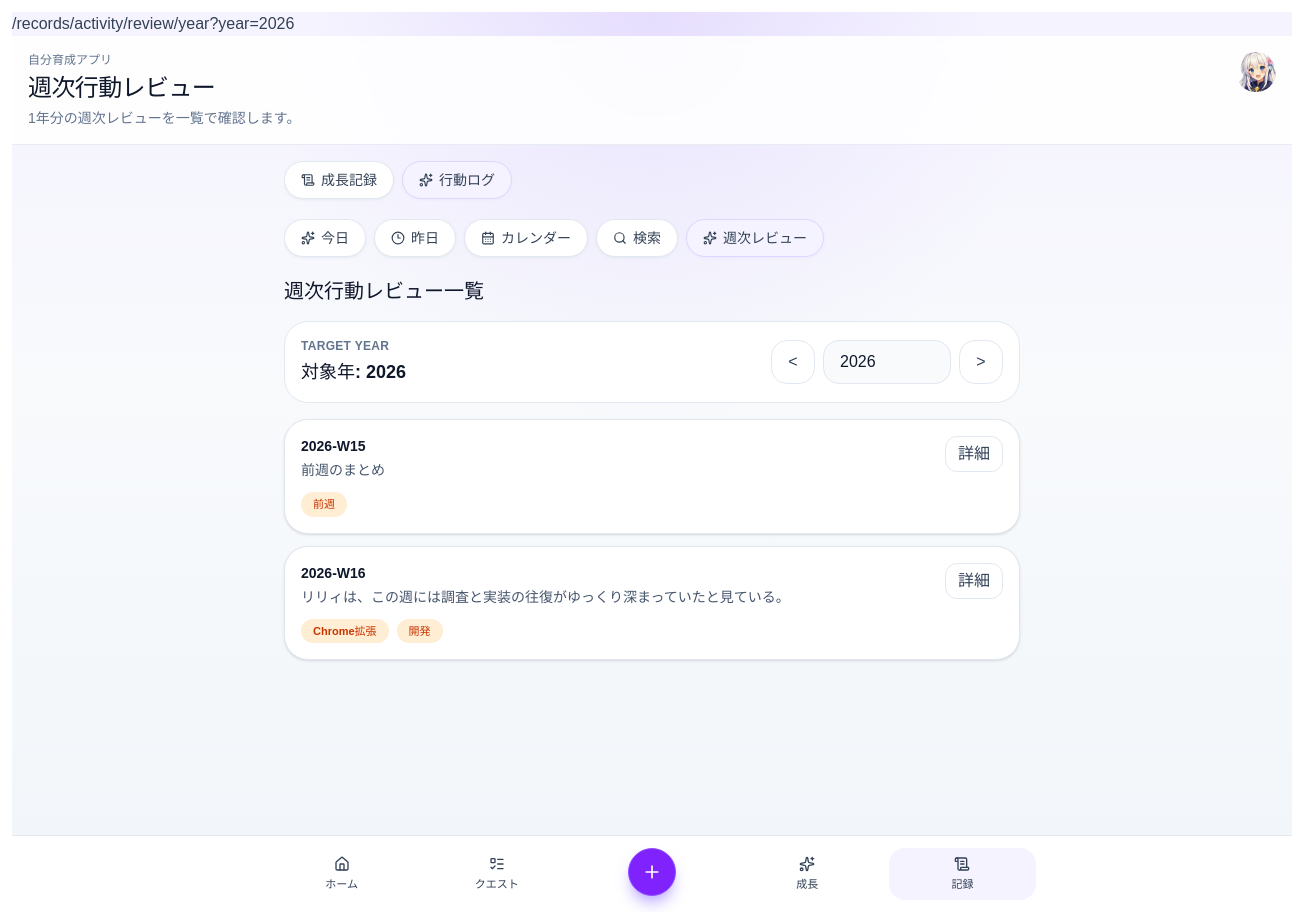
activity log routes › renders the requested review year and navigates to weekly detail
Check: the text "対象年: 2026" is shown, box [301, 358, 406, 386]
Click the button with aria-label "Open 2026-W15" at (974, 454), box [945, 436, 1003, 472]
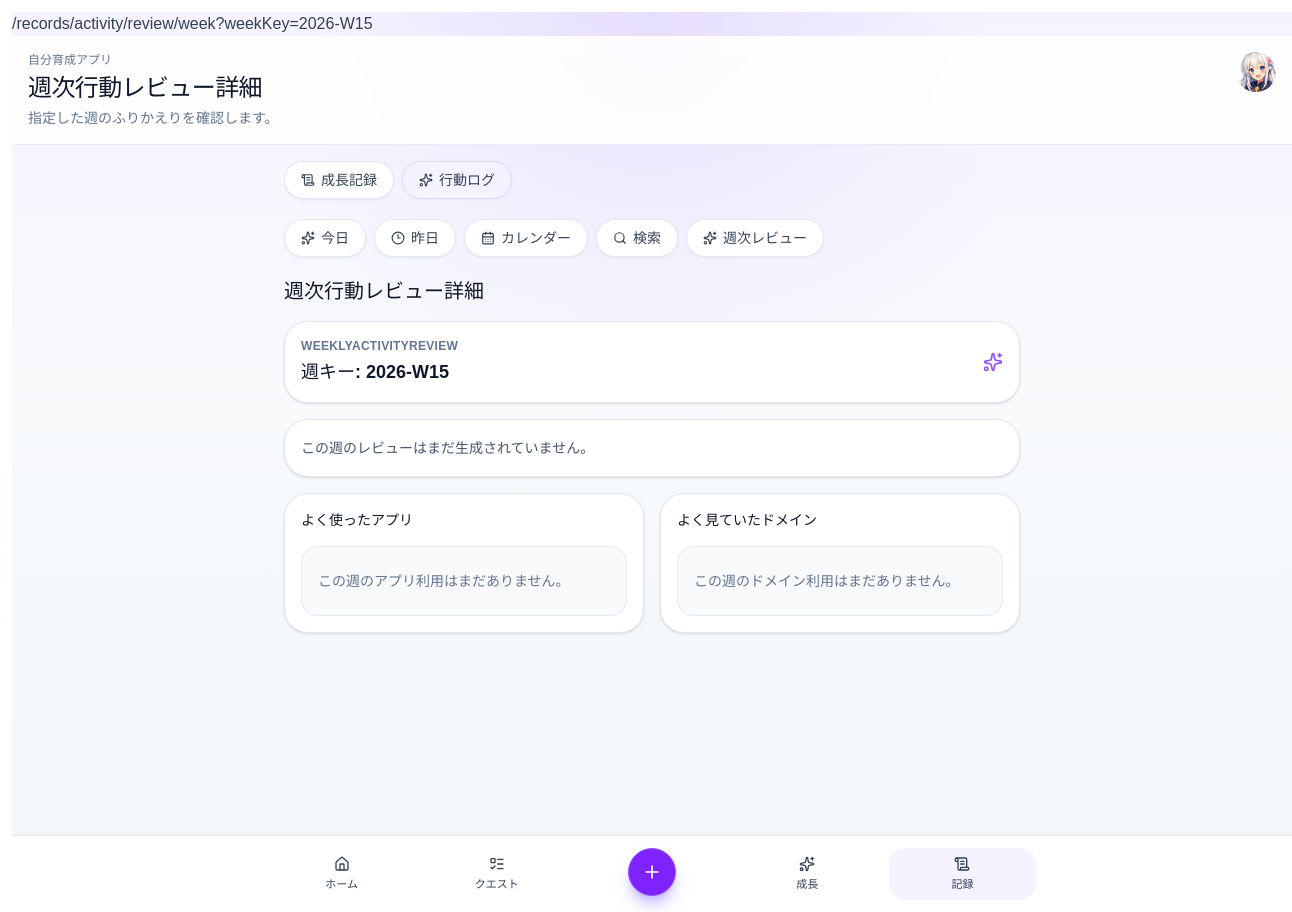
Check: the text with test id "location" reads "/records/activity/review/week?weekKey=2026-W15", box [12, 15, 373, 32]
